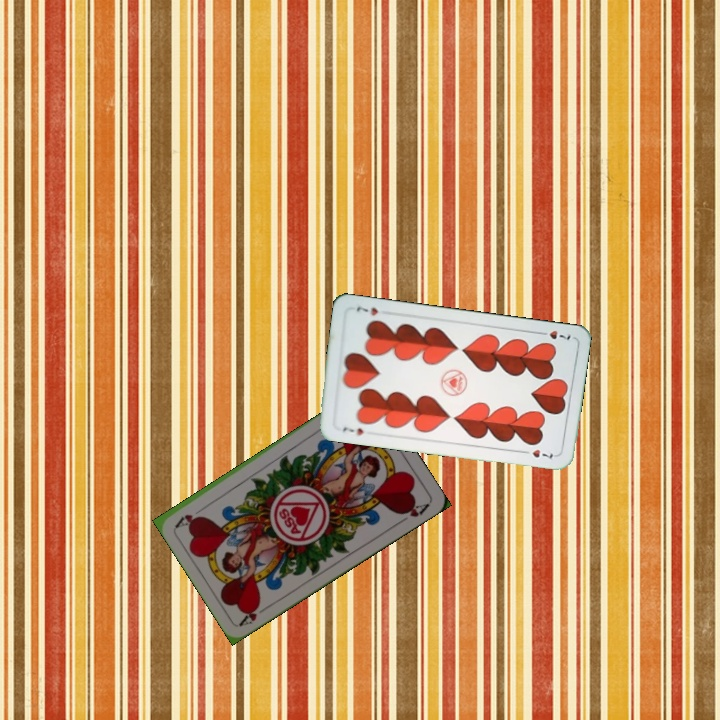H7: (534, 326, 573, 342), (338, 423, 366, 438)
HA: (236, 599, 273, 628)
